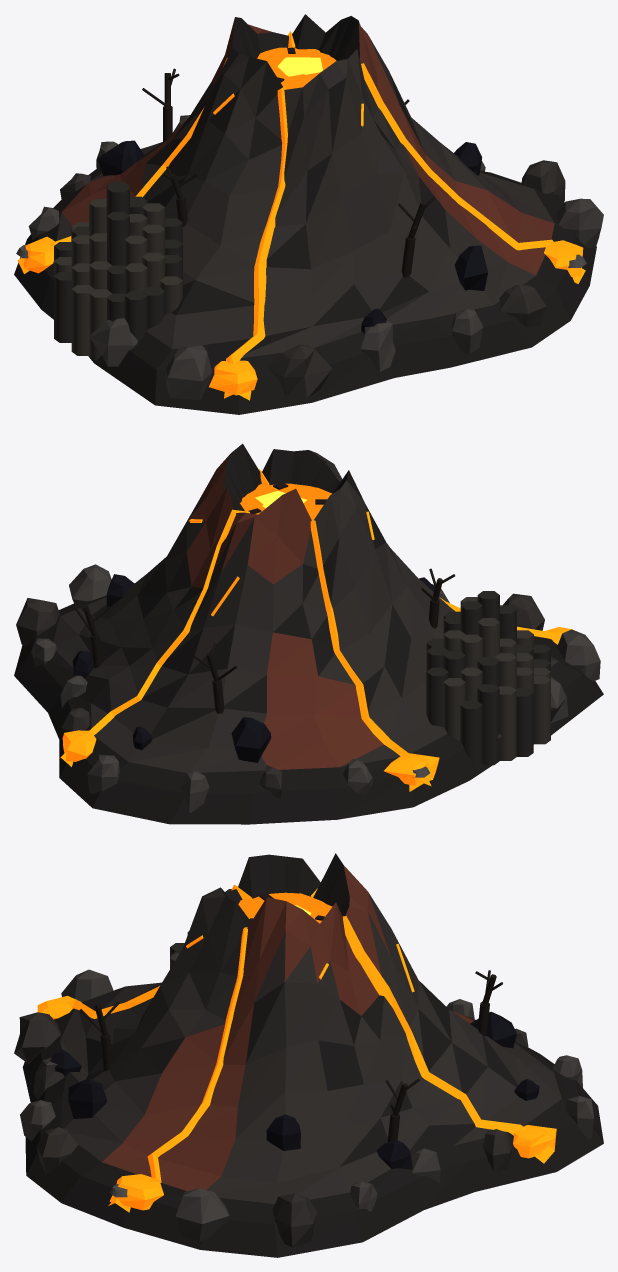
Rendered from volcanic-rock.glb.
3 views of the same model, one above another, from view 1: azimuth 30°, elevation 25°; view 2: azimuth 150°, elevation 25°; view 3: azimuth 270°, elevation 25° (orthographic). The views are drawn at different scales.
Visible parts, largest first — view 1: Mesh_Cone, Mesh_ConeShore, Mesh_ConeDark, Mesh_ConeOxidised, Mesh_LavaRivulet1, Mesh_ShoreRock6, Mesh_ShoreRock7, Mesh_LavaRivulet0, Mesh_ShoreRock1, Mesh_ShoreRock8, Mesh_ShoreRock3, Mesh_BasaltColumn1 (+26 smaller); view 2: Mesh_Cone, Mesh_ConeShore, Mesh_ConeOxidised, Mesh_ConeDark, Mesh_LavaRivulet2, Mesh_LavaRivulet3, Mesh_BasaltColumn2, Mesh_ShoreRock7, Mesh_ShoreRock0, Mesh_Obsidian2, Mesh_BasaltColumn3, Mesh_BasaltColumn9 (+27 smaller); view 3: Mesh_Cone, Mesh_ConeShore, Mesh_ConeOxidised, Mesh_ConeDark, Mesh_LavaRivulet3, Mesh_LavaRivulet0, Mesh_ShoreRock1, Mesh_ShoreRock0, Mesh_ShoreRock6, Mesh_LavaDelta0, Mesh_ShoreRock3, Mesh_Obsidian0 (+15 smaller).
Part boxes in pixels (left/top/right/bottom): Mesh_Cone: left=56, top=36, right=554, bottom=357; Mesh_ConeShore: left=14, top=148, right=596, bottom=414; Mesh_ConeDark: left=144, top=14, right=449, bottom=358; Mesh_ConeOxidised: left=62, top=18, right=554, bottom=275; Mesh_LavaRivulet1: left=224, top=86, right=287, bottom=400; Mesh_ShoreRock6: left=267, top=345, right=332, bottom=398; Mesh_ShoreRock7: left=165, top=345, right=211, bottom=400; Mesh_LavaRivulet0: left=361, top=63, right=585, bottom=283; Mesh_ShoreRock1: left=556, top=198, right=603, bottom=248; Mesh_ShoreRock8: left=89, top=318, right=138, bottom=366; Mesh_ShoreRock3: left=499, top=284, right=546, bottom=327; Mesh_BasaltColumn1: left=71, top=285, right=94, bottom=355; Mesh_Cone: left=53, top=450, right=558, bottom=773; Mesh_ConeShore: left=14, top=595, right=603, bottom=824; Mesh_ConeOxidised: left=186, top=453, right=383, bottom=769; Mesh_ConeDark: left=79, top=443, right=558, bottom=738; Mesh_LavaRivulet2: left=310, top=519, right=431, bottom=791; Mesh_LavaRivulet3: left=59, top=509, right=249, bottom=766; Mesh_BasaltColumn2: left=477, top=684, right=499, bottom=765; Mesh_ShoreRock7: left=557, top=629, right=600, bottom=681; Mesh_ShoreRock0: left=16, top=598, right=59, bottom=646; Mesh_Obsidian2: left=231, top=717, right=271, bottom=762; Mesh_BasaltColumn3: left=499, top=686, right=516, bottom=760; Mesh_BasaltColumn9: left=460, top=701, right=482, bottom=767; Mesh_Cone: left=60, top=887, right=561, bottom=1204; Mesh_ConeShore: left=22, top=989, right=603, bottom=1257; Mesh_ConeOxidised: left=102, top=865, right=474, bottom=1191; Mesh_ConeDark: left=78, top=853, right=518, bottom=1166; Mesh_LavaRivulet3: left=342, top=916, right=554, bottom=1163; Mesh_LavaRivulet0: left=108, top=927, right=247, bottom=1212; Mesh_ShoreRock1: left=175, top=1188, right=229, bottom=1241; Mesh_ShoreRock0: left=273, top=1193, right=317, bottom=1247; Mesh_ShoreRock6: left=14, top=1012, right=60, bottom=1063; Mesh_LavaDelta0: left=109, top=1174, right=163, bottom=1210; Mesh_ShoreRock3: left=36, top=1127, right=78, bottom=1174; Mesh_Obsidian0: left=68, top=1078, right=107, bottom=1118.
Size of the model in its own units: 29.64 by 13.7 by 28.98.
